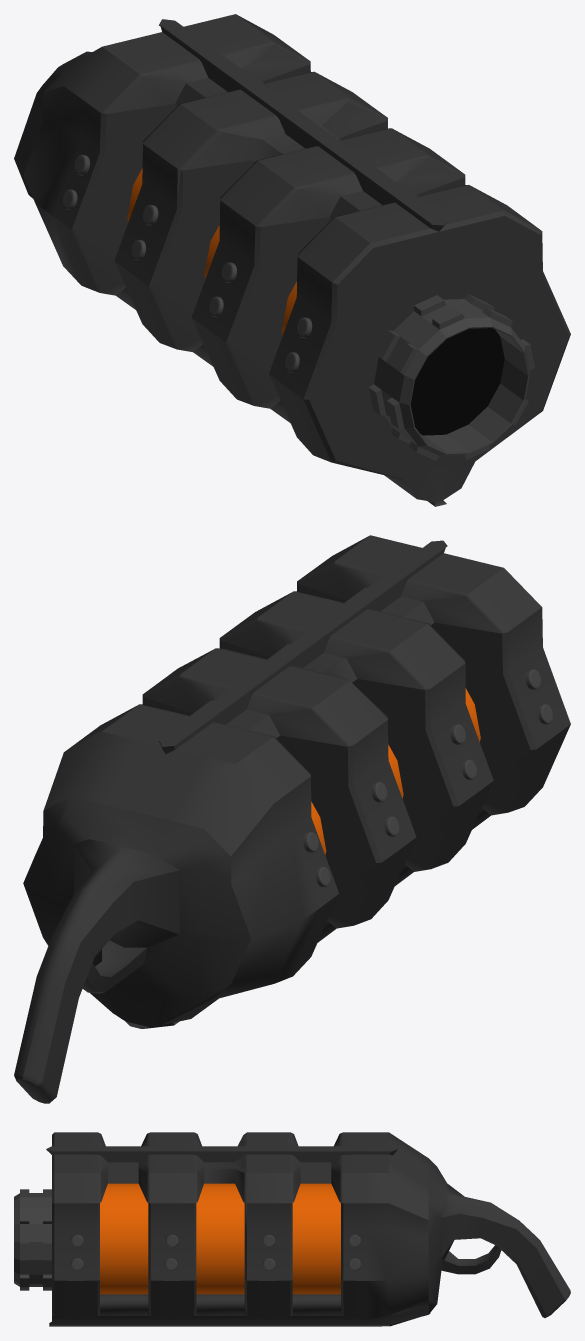
Rendered from Gun_Blaster.fbx.
The picture shows the model from 3 angles, top to bottom: view 1: azimuth 30°, elevation 25°; view 2: azimuth 150°, elevation 25°; view 3: azimuth 270°, elevation 25°; orthographic projection. The views are drawn at different scales.
Parts seen in each view (by area): view 1: GunFrame, GunMouth, GunMouth_D, GunPipe; view 2: GunFrame, GunPipe; view 3: GunFrame, GunPipe, GunMouth.
Part boxes in pixels (x1,y1,x2,y2): GunFrame: (14,14,570,506); GunMouth: (369,294,534,460); GunMouth_D: (410,328,504,435); GunPipe: (127,168,296,335); GunFrame: (14,535,570,1103); GunPipe: (311,688,480,854); GunFrame: (46,1132,570,1326); GunPipe: (100,1183,340,1294); GunMouth: (14,1189,51,1290).
Size of the model in its own units: 0.5 by 0.5043 by 1.45.
